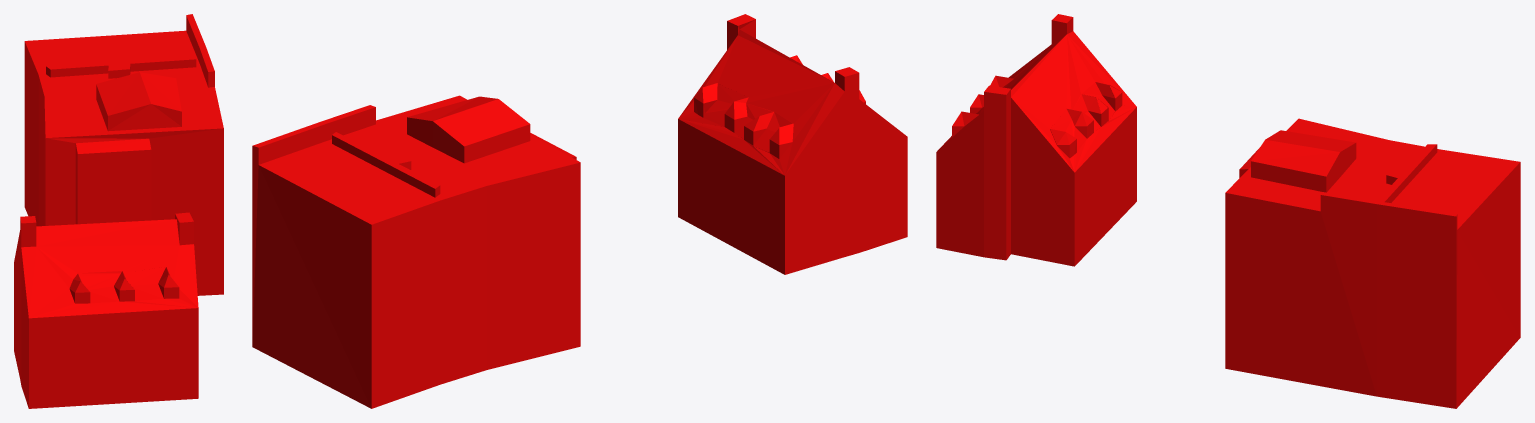
The model's file is twobuildings.city.glb.
The picture shows the model from 3 angles, left to right: view 1: azimuth 30°, elevation 25°; view 2: azimuth 150°, elevation 25°; view 3: azimuth 270°, elevation 25°; orthographic projection. The views are drawn at different scales.
Visible parts, largest first — view 1: Building_1, Building_2; view 2: Building_1, Building_2; view 3: Building_1, Building_2.
Part boxes in pixels (left/top/right/bottom): Building_1: left=24, top=14, right=223, bottom=295; Building_2: left=14, top=212, right=198, bottom=408; Building_1: left=252, top=95, right=580, bottom=408; Building_2: left=678, top=14, right=907, bottom=274; Building_1: left=1225, top=118, right=1520, bottom=408; Building_2: left=936, top=14, right=1136, bottom=266.
Size of the model in its own units: 31.5 by 15.76 by 39.88.
